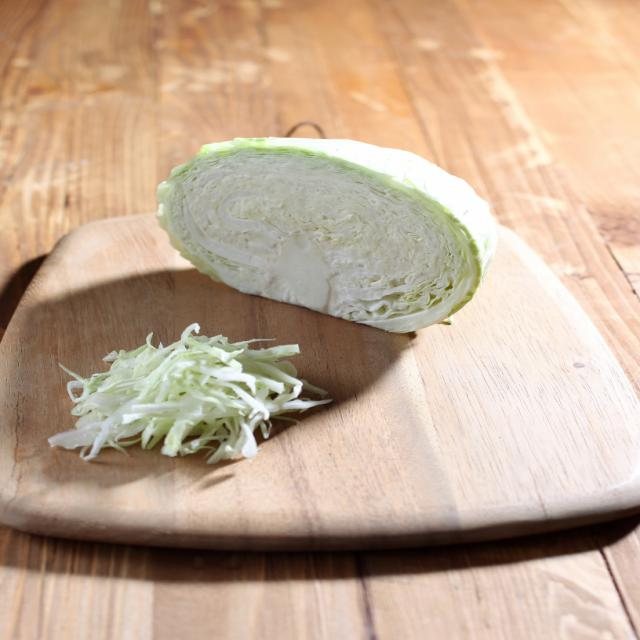cabbage: (154, 130, 502, 339)
